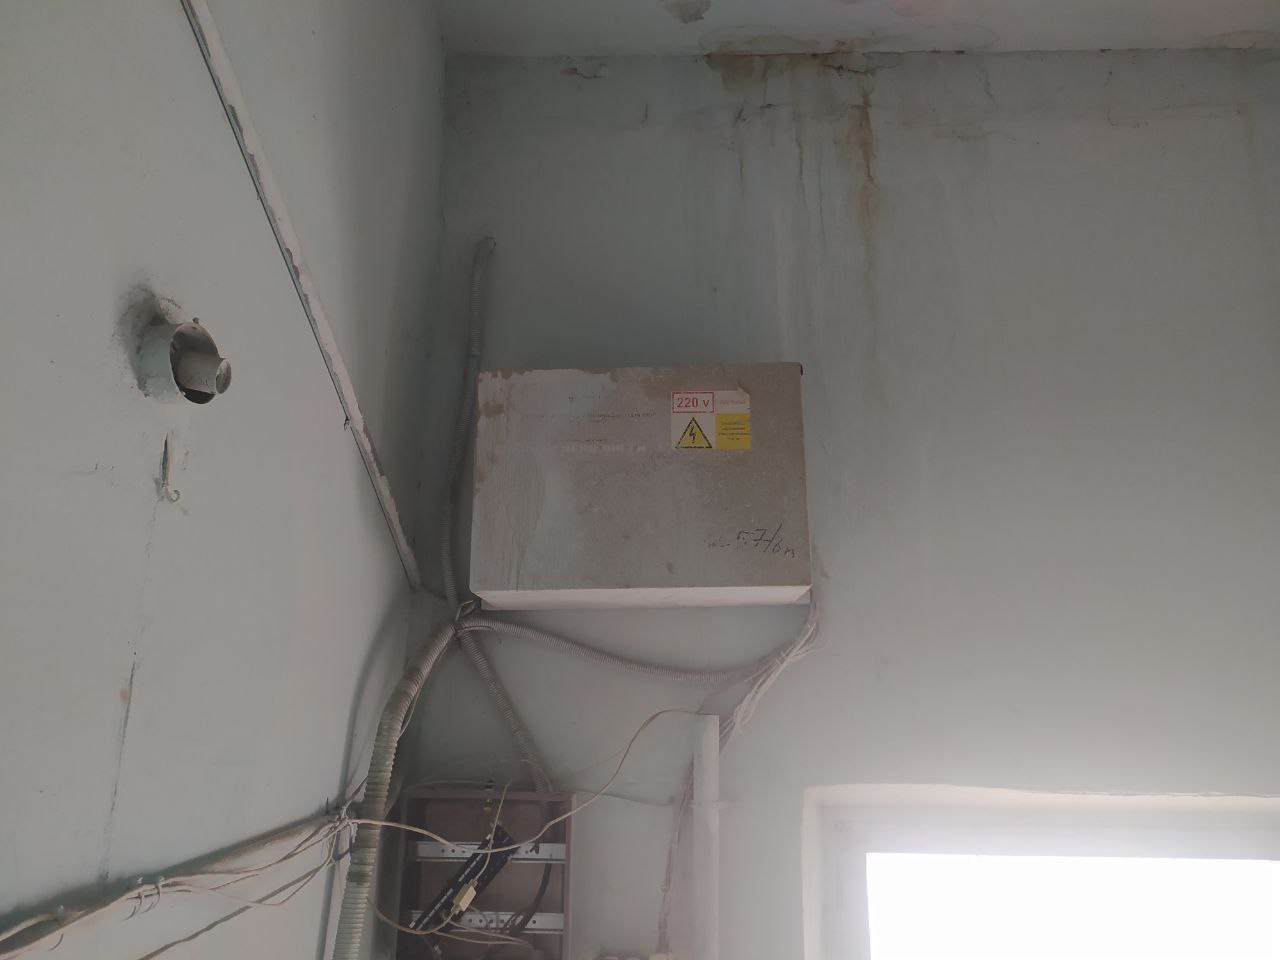sv-5: (465, 361, 813, 609)
